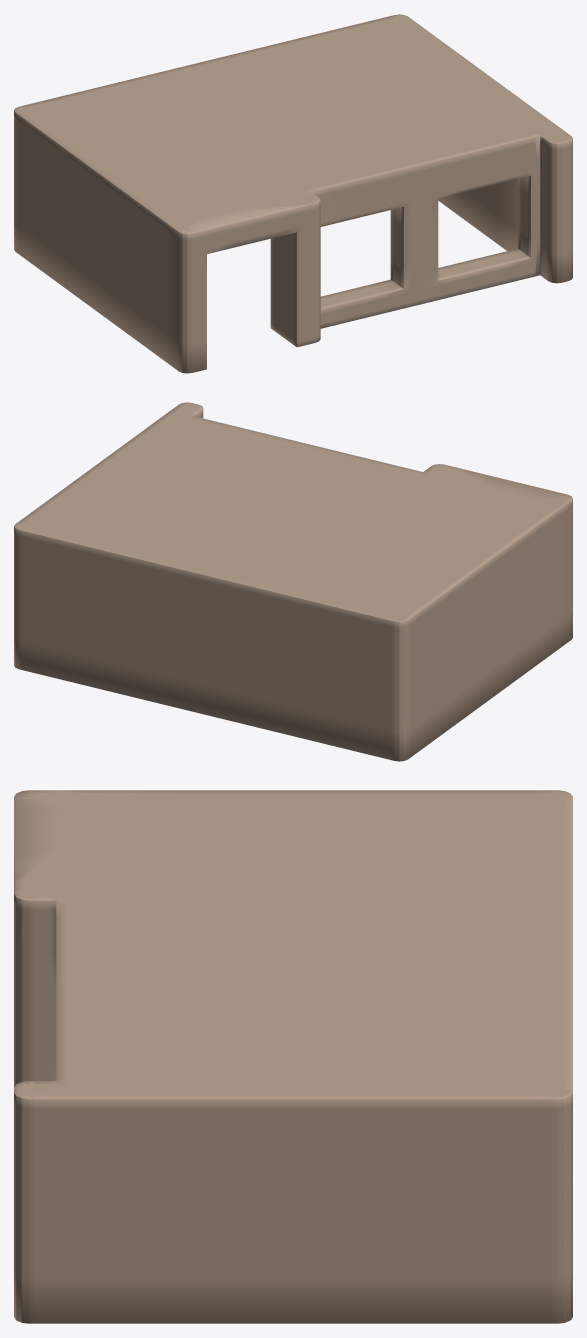
File: Store_Walls.fbx
3 views of the same model, one above another, from view 1: azimuth 30°, elevation 25°; view 2: azimuth 150°, elevation 25°; view 3: azimuth 270°, elevation 25° (orthographic). The views are drawn at different scales.
Parts seen in each view (by area): view 1: Frot_wall; view 2: Frot_wall; view 3: Frot_wall.
Part boxes in pixels (x1,y1,x2,y2): Frot_wall: (14,14,572,373); Frot_wall: (14,402,572,761); Frot_wall: (14,790,572,1323).
Size of the model in its own units: 1016 by 345 by 777.
